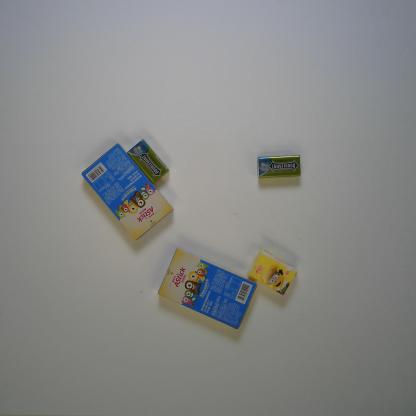Dessert: (78, 141, 174, 244), (156, 247, 258, 331)
Gum: (126, 138, 170, 185), (256, 153, 303, 181)
Tissue: (245, 246, 299, 296)
